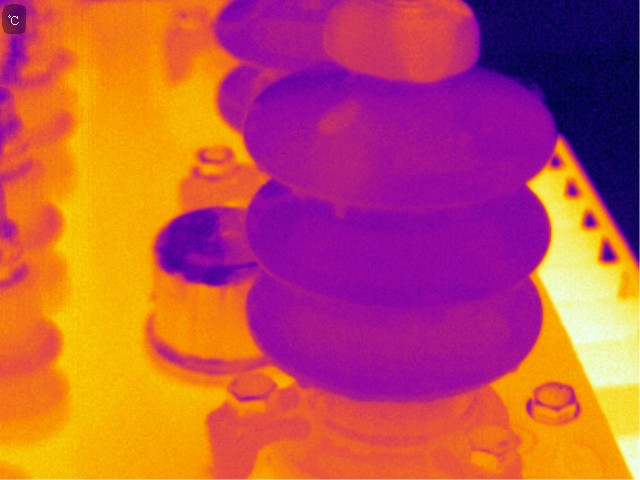Oil: (380, 1, 474, 85), (306, 140, 372, 196), (313, 93, 366, 136), (329, 196, 352, 222), (292, 370, 315, 391), (284, 181, 307, 202), (506, 362, 520, 374)
